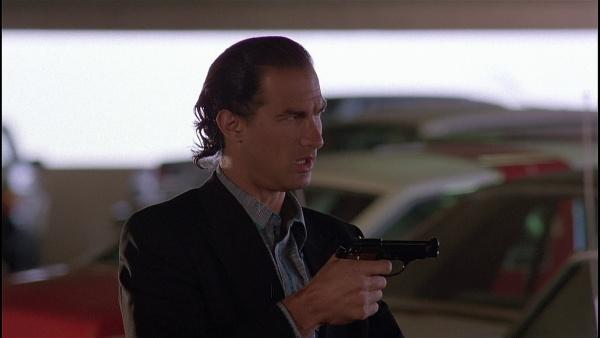Gun: (326, 238, 440, 278)
